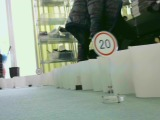speed_20: (92, 31, 118, 57)
